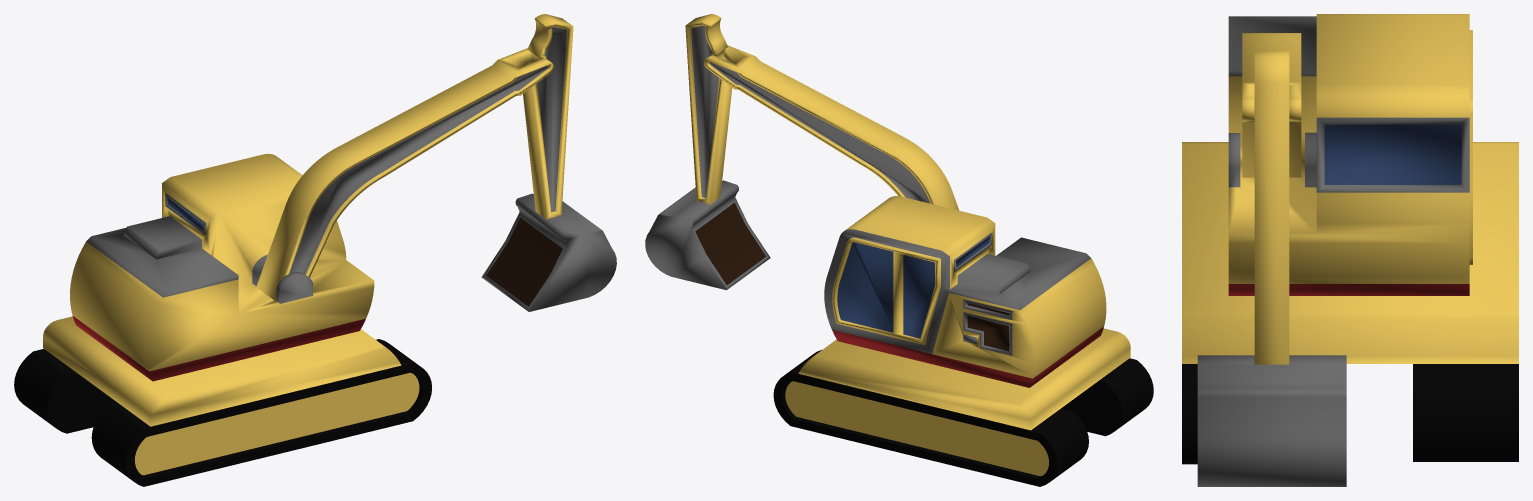
File: CX CONSTRUCTOR.fbx
3 renders of one model, left to right at view 1: azimuth 30°, elevation 25°; view 2: azimuth 150°, elevation 25°; view 3: azimuth 270°, elevation 25°, orthographic. The views are drawn at different scales.
Parts seen in each view (by area): view 1: Group6, Group3, Group4, Group5, Group1, Group2; view 2: Group6, Group2, Group4, Group1, Group5, Group3; view 3: Group6, Group1, Group4, Group2, Group5, Group3.
Part boxes in pixels (left/top/right/bottom): Group6: left=70, top=153, right=374, bottom=381; Group3: left=91, top=339, right=431, bottom=486; Group4: left=481, top=14, right=616, bottom=311; Group5: left=256, top=48, right=553, bottom=300; Group1: left=43, top=316, right=401, bottom=426; Group2: left=14, top=349, right=117, bottom=433; Group6: left=824, top=196, right=1106, bottom=387; Group2: left=773, top=350, right=1088, bottom=486; Group4: left=645, top=14, right=770, bottom=290; Group1: left=798, top=328, right=1130, bottom=430; Group5: left=704, top=45, right=959, bottom=210; Group3: left=1061, top=358, right=1153, bottom=436; Group6: left=1228, top=14, right=1472, bottom=295; Group1: left=1182, top=142, right=1518, bottom=363; Group4: left=1197, top=51, right=1346, bottom=486; Group2: left=1413, top=364, right=1518, bottom=461; Group5: left=1242, top=33, right=1301, bottom=177; Group3: left=1182, top=364, right=1197, bottom=464.
Bounding box in the file's own units: 6.3 × 4.11 × 2.34.
